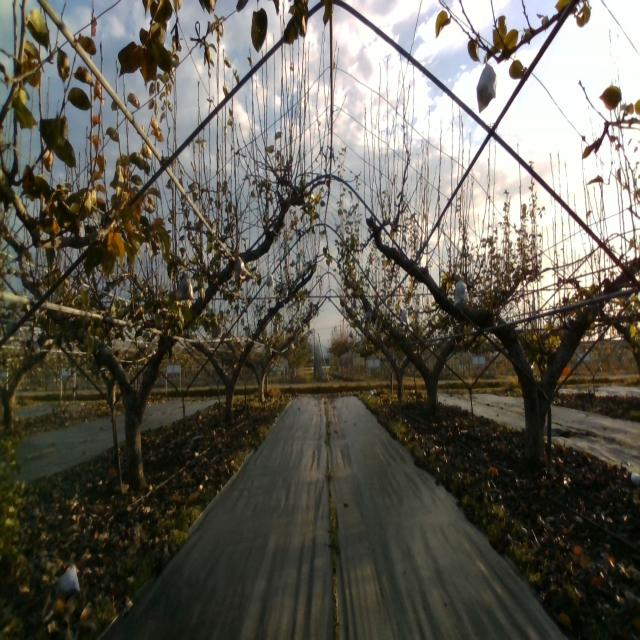pearbags: (476, 55, 496, 112), (174, 274, 194, 302), (453, 281, 469, 308), (233, 256, 246, 282)
